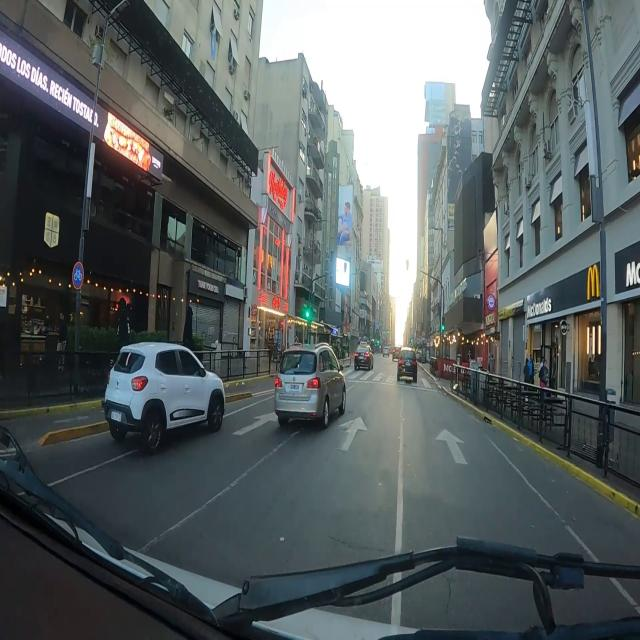car: (104, 343, 225, 453), (275, 345, 345, 427), (397, 347, 417, 382), (354, 345, 373, 369), (392, 347, 399, 360), (383, 347, 389, 356)
